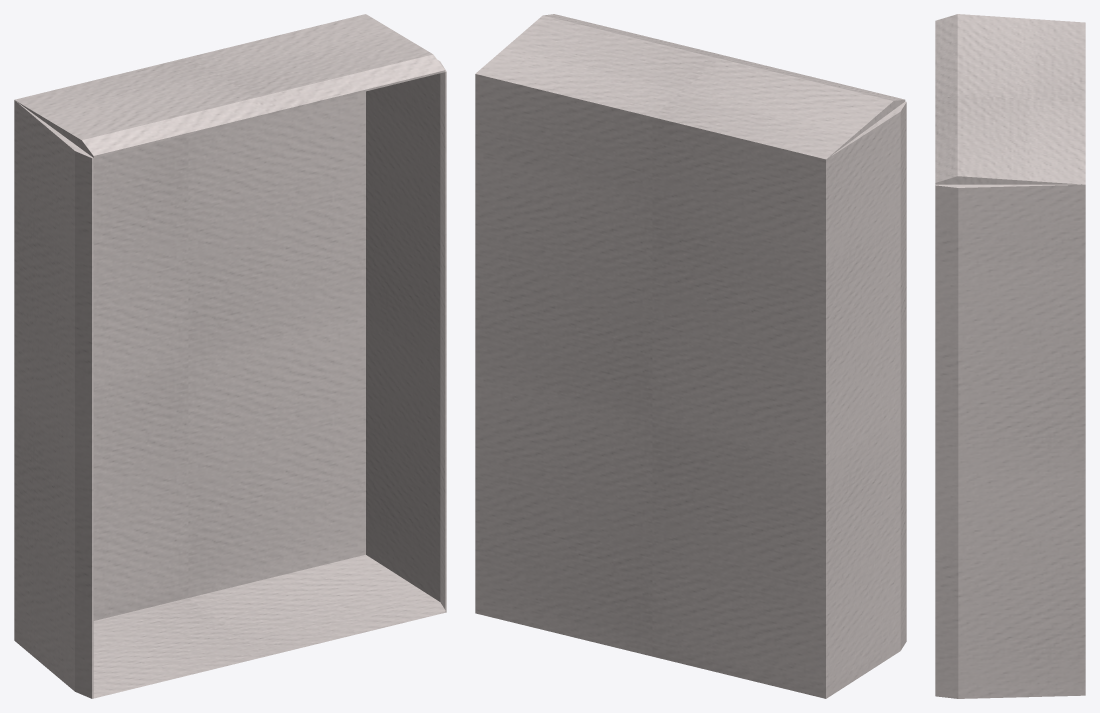
The model's file is in Lemari.fbx.
The picture shows the model from 3 angles, left to right: view 1: azimuth 30°, elevation 25°; view 2: azimuth 150°, elevation 25°; view 3: azimuth 270°, elevation 25°; orthographic projection. The views are drawn at different scales.
Visible parts, largest first — view 1: in Lemari; view 2: in Lemari; view 3: in Lemari.
Part boxes in pixels (box(x1,y1,x2,y2)): in Lemari: box(14, 14, 446, 698); in Lemari: box(475, 14, 906, 698); in Lemari: box(935, 14, 1085, 698).
Size of the model in its own units: 5.64 by 8.1 by 2.12.
